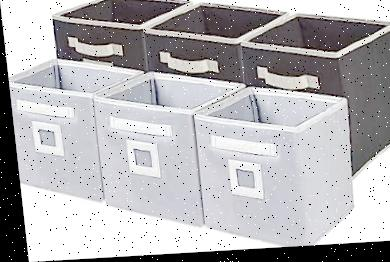cube: (187, 85, 357, 254), (87, 68, 248, 235), (6, 57, 146, 209)
